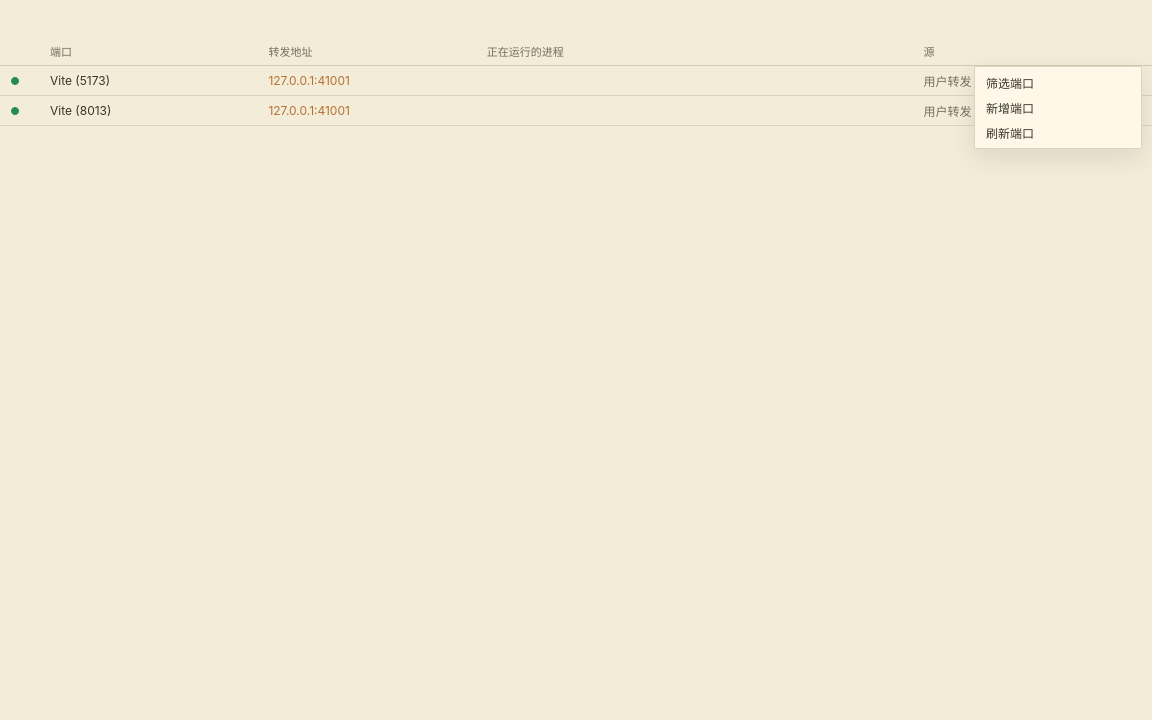
Scenario: 工作区端口转发面板 › 默认优先显示工作区端口列表，并可展开和取消新增表单
Click the menu item "新增端口": (1058, 108) [978,95,1138,120]
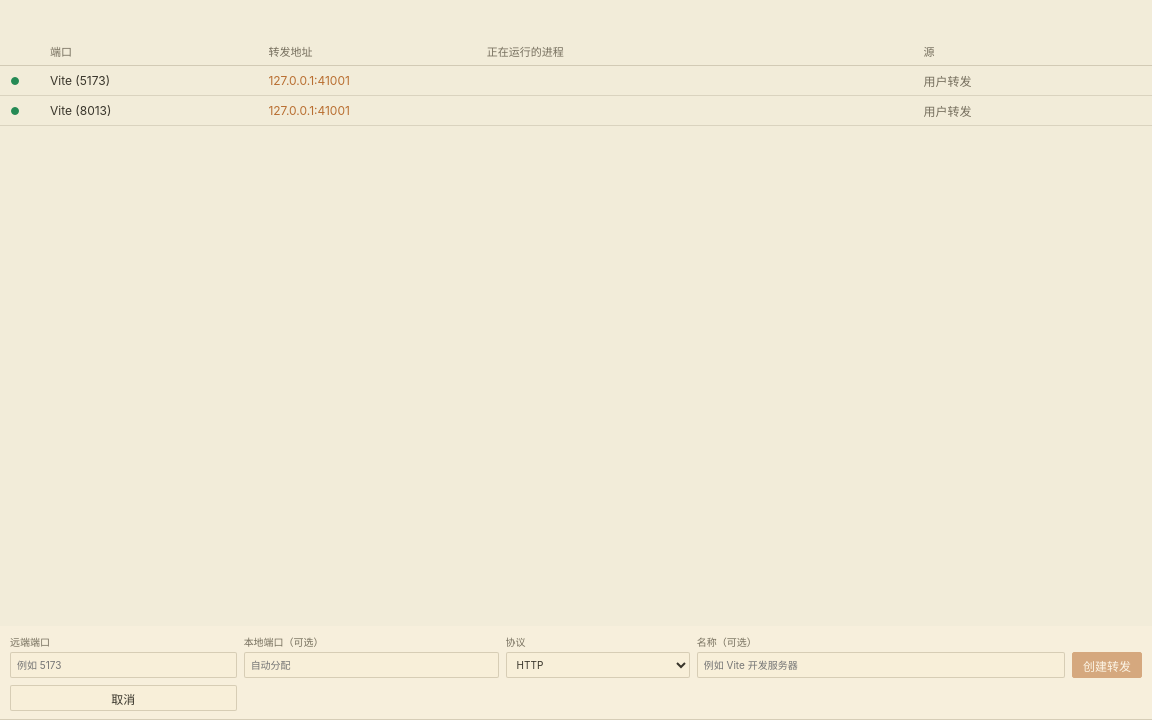
expect the number of forms is 1: met, box [10,634,1142,711]
expect the button "取消" is shown: met
Click the button "取消": (123, 698) [10,685,237,711]
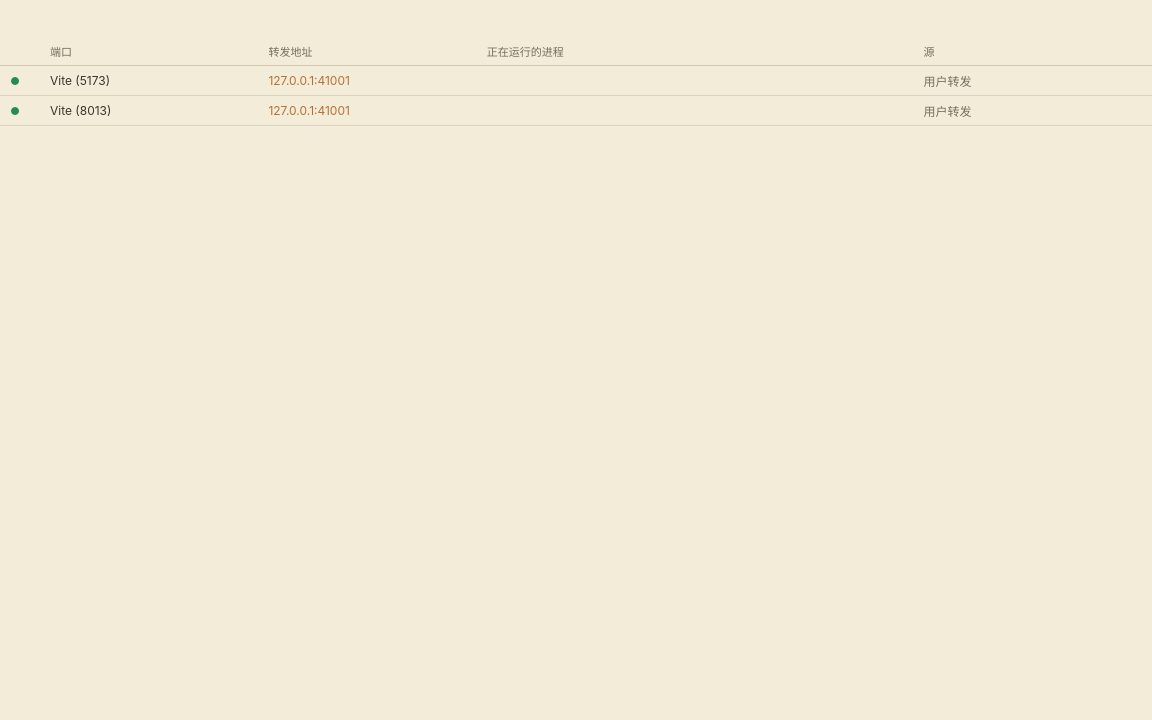
expect no forms are shown: met
